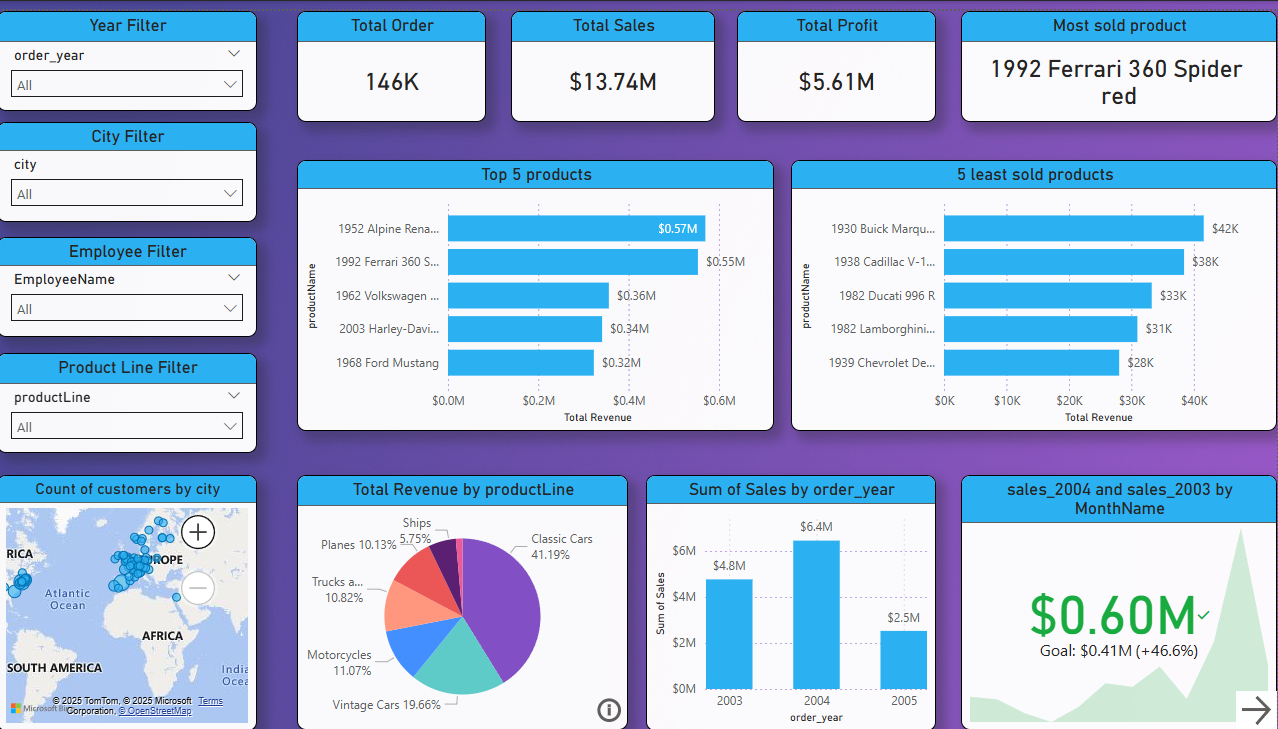

Layout of this report page (visuals, bound fields, positions):
{"tool":"powerbi","page":{"name":"Page 1","canvas":[1280,720],"ordinal":0},"visuals":[{"type":"card","title":"Total Sales","fields":{"Values":["order details.total_sales"]},"box":[514,0,204,111],"z":0},{"type":"card","title":"Total Profit","fields":{"Values":["order details.total_profit"]},"box":[740,0,199,111],"z":1000},{"type":"card","title":"Most sold product","fields":{"Values":["products.most_sold_product"]},"box":[964,0,316,111],"z":2000},{"type":"barChart","title":"Top 5 products","fields":{"Category":["products.productName"],"Y":["order details.Sales"]},"box":[300,149,477,271],"z":3000},{"type":"pieChart","fields":{"Y":["order details.Sales"],"Category":["productlines.productLine"]},"box":[300,464,331,255],"z":4000},{"type":"slicer","title":"Year Filter","fields":{"Values":["orders.order_year"]},"box":[0,0,260,100],"z":5000},{"type":"card","title":"Total Order","fields":{"Values":["order details.quantityOrdered"]},"box":[300,0,189,111],"z":6000},{"type":"kpi","fields":{"Goal":["orders.sales_2003"],"TrendLine":["orders.MonthName"],"Indicator":["orders.sales_2004"]},"box":[964,464,316,255],"z":7000},{"type":"map","title":"Count of customers by city","fields":{"Category":["customers.city"],"Size":["customers.customerNumber"]},"box":[0,464,260,256],"z":8000},{"type":"slicer","title":"City Filter","fields":{"Values":["offices.city"]},"box":[0,111,260,100],"z":9000},{"type":"slicer","title":"Employee Filter","fields":{"Values":["employees.EmployeeName"]},"box":[0,226,260,100],"z":10000},{"type":"slicer","title":"Product Line Filter","fields":{"Values":["products.productLine"]},"box":[0,342,260,100],"z":11000},{"type":"clusteredColumnChart","fields":{"Y":["order details.Sales"],"Category":["orders.order_year"]},"box":[649,464,290,256],"z":12000},{"type":"barChart","title":"5 least sold products","fields":{"Category":["products.productName"],"Y":["order details.Sales"]},"box":[794,149,486,271],"z":13000},{"type":"actionButton","box":[1239,680,41,39],"z":14000},{"type":"actionButton","box":[593,680,38,39],"z":15000}]}

Visuals, with their boxes in screenshot pixels (x1, y1, x2, y2), scaled from the page's 1280x720 canvas onto the 1278x729 screenshot:
"Total Sales" card: locate(513, 0, 717, 112)
"Total Profit" card: locate(739, 0, 938, 112)
"Most sold product" card: locate(962, 0, 1277, 112)
"Top 5 products" barChart: locate(300, 151, 776, 425)
pieChart - order details.Sales x productlines.productLine: locate(300, 470, 630, 728)
"Year Filter" slicer: locate(0, 0, 260, 101)
"Total Order" card: locate(300, 0, 488, 112)
kpi - orders.sales_2003 x orders.MonthName: locate(962, 470, 1277, 728)
"Count of customers by city" map: locate(0, 470, 260, 728)
"City Filter" slicer: locate(0, 112, 260, 214)
"Employee Filter" slicer: locate(0, 229, 260, 330)
"Product Line Filter" slicer: locate(0, 346, 260, 448)
clusteredColumnChart - order details.Sales x orders.order_year: locate(648, 470, 938, 728)
"5 least sold products" barChart: locate(793, 151, 1277, 425)
actionButton: locate(1237, 688, 1277, 728)
actionButton: locate(592, 688, 630, 728)
